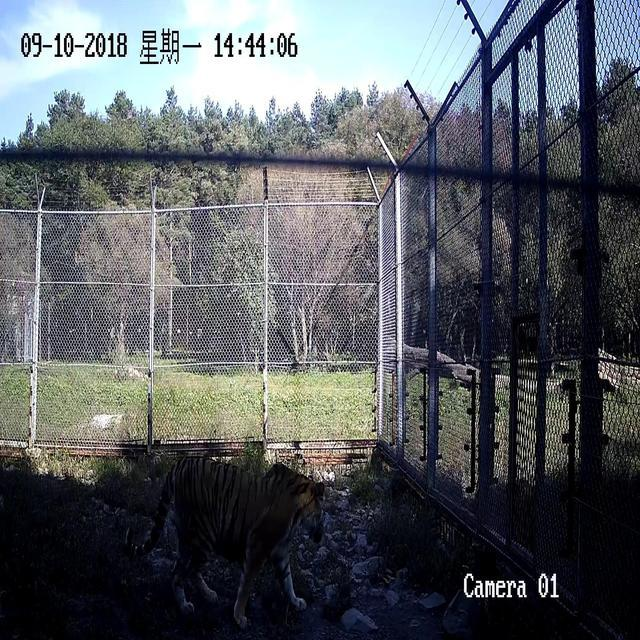tiger: (132, 455, 326, 629), (383, 337, 619, 395)
